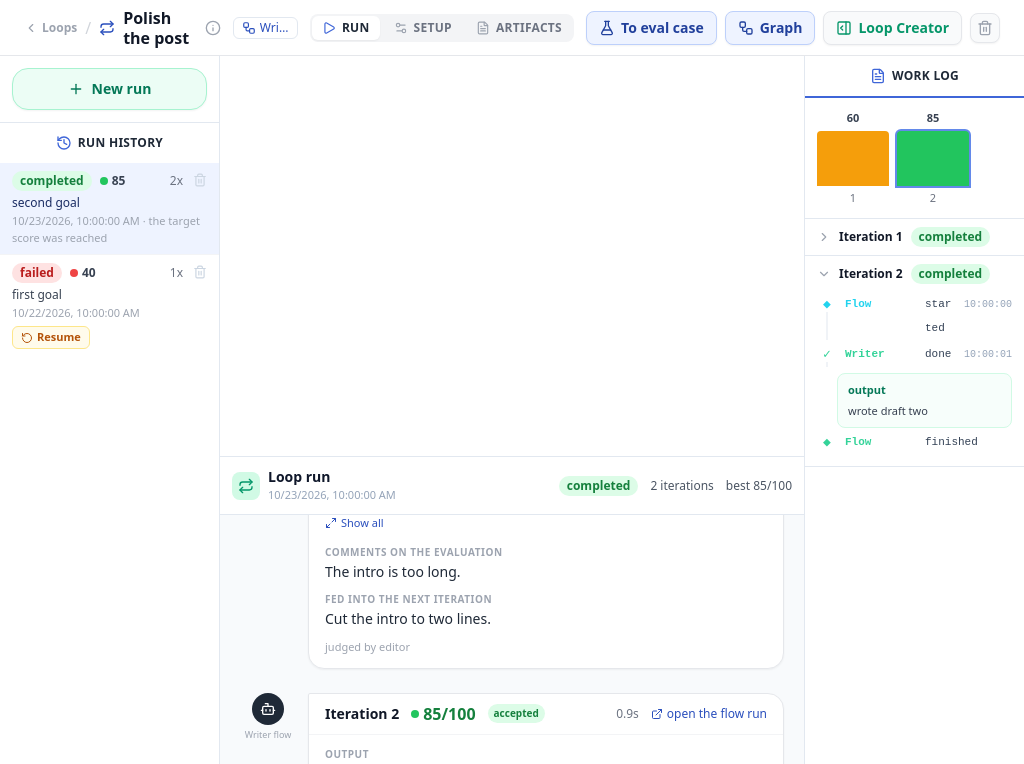
LoopDetail: a loop on a page of its own › has an Artifacts tab, as the flow page does
(page scrolled)
Click the button "Artifacts".
click(519, 28)  # box [466, 16, 572, 40]
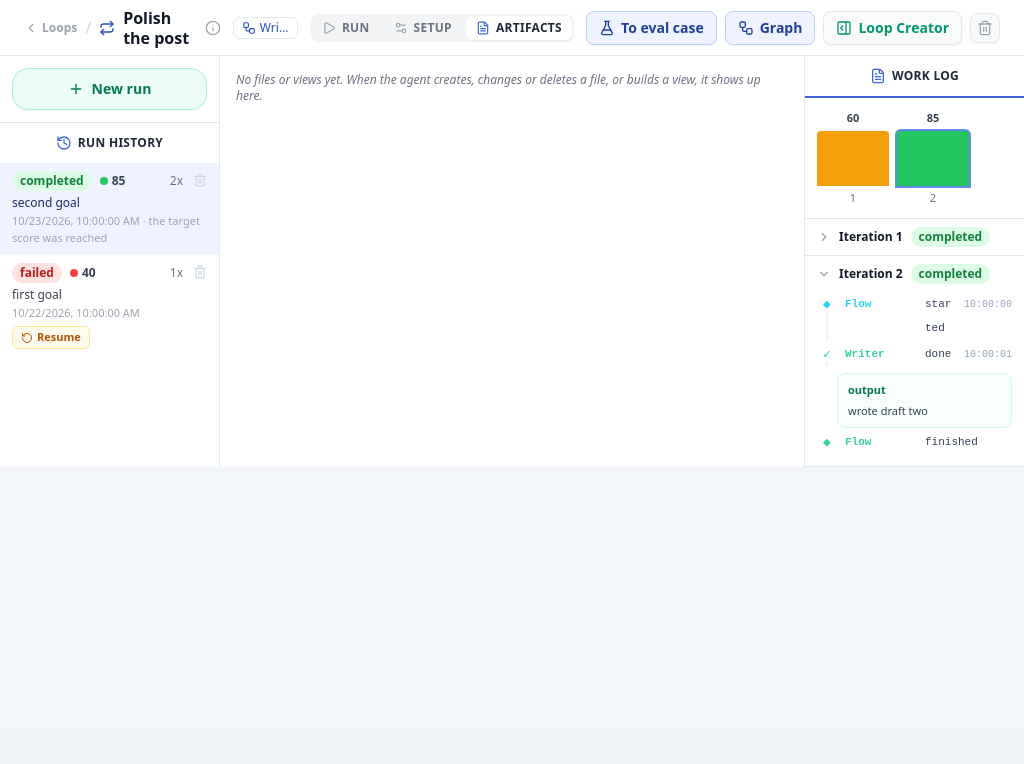
Now the element with test id "flow-artifacts" is shown, box [220, 56, 804, 466]
Now the element with test id "loop-flow-graph" is gone
